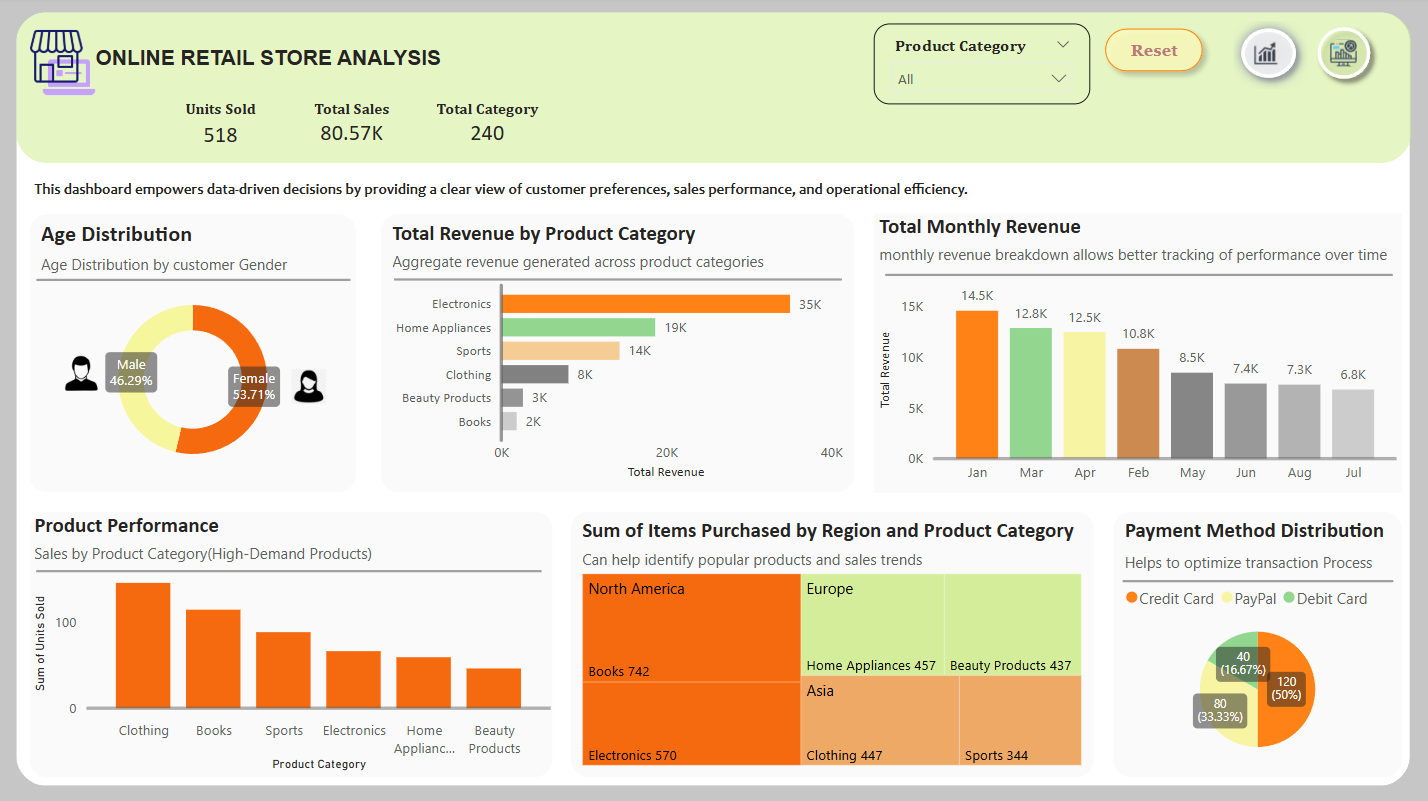

The dashboard page shown, as its layout file describes it:
{"tool":"powerbi","page":{"name":"Page 1","canvas":[1280,720],"ordinal":0},"visuals":[{"type":"shape","box":[19.2,14.4,1241.6,689.1],"z":0},{"type":"shape","box":[18.8,14.4,1242.2,134.2],"z":1000},{"type":"textbox","box":[21.7,39.8,515.2,37.4],"z":2000},{"type":"donutChart","title":"Age Distribution","fields":{"Y":["Sum(Customer Demographic data.Age)"],"Category":["Customer Demographic data.Gender"]},"box":[30.2,194.2,292,248.5],"z":3000},{"type":"columnChart","title":"Product Performance","fields":{"Y":["Sum(Sales Transaction data.Units Sold)"],"Category":["Sales Transaction data.Product Category"]},"box":[30.2,458.4,466.9,237.7],"z":4000},{"type":"treemap","fields":{"Group":["Sales Transaction data.Region","Customer Demographic data.City"],"Details":["Sales Transaction data.Product Category"],"Values":["Sum(Customer Demographic data.Items Purchased)"]},"box":[511.5,458.4,466.9,237.7],"z":5000},{"type":"barChart","title":"Total Revenue by Product Category","fields":{"Category":["Sales Transaction data.Product Category"],"Y":["Sum(Sales Transaction data.Total Revenue)"]},"box":[342.6,194.2,423.5,248.5],"z":6000},{"type":"pieChart","title":"Payment Method Distribution","fields":{"Category":["Sales Transaction data.Payment Method"],"Y":["CountNonNull(Sales Transaction data.Payment Method)"]},"box":[995.3,458.4,258.2,237.7],"z":7000},{"type":"columnChart","title":"Total Monthly Revenue","fields":{"Category":["Sales Transaction data.month name"],"Y":["Sum(Sales Transaction data.Total Revenue)"]},"box":[783,194.2,470.5,248.5],"z":8000},{"type":"slicer","title":"Product Category","fields":{"Values":["Sales Transaction data.Product Category"]},"box":[782.6,24,193,71.9],"z":9000},{"type":"image","box":[21.7,24.1,76,70],"z":10000},{"type":"card","title":"Total Category","fields":{"Values":["Sales Transaction data.Total Customer"]},"box":[381.2,92.9,115.8,44.6],"z":11000},{"type":"card","title":"Total Sales","fields":{"Values":["Sales Transaction data.Total Sales"]},"box":[259.4,92.9,117,44.6],"z":12000},{"type":"card","title":"Units Sold","fields":{"Values":["Sum(Sales Transaction data.Units Sold)"]},"box":[142.4,92.9,117,47.1],"z":13000},{"type":"actionButton","box":[1100.3,19.3,68.8,63.9],"z":14000},{"type":"actionButton","box":[1169,19.3,65.1,63.9],"z":15000},{"type":"image","box":[55.5,311.3,42.2,48.3],"z":16000},{"type":"image","box":[258.2,326.9,42.2,41],"z":17000},{"type":"shape","box":[36.2,243.7,279.9,18.1],"z":18000},{"type":"shape","box":[1003.8,511.5,241.3,18.1],"z":19000},{"type":"shape","box":[36.2,503.1,450,18.1],"z":20000},{"type":"shape","box":[792.6,238.9,452.4,18.1],"z":21000},{"type":"shape","box":[354.7,248.5,399.3,8.4],"z":22000},{"type":"textbox","box":[30.2,156.8,877.1,27.7],"z":23000},{"type":"actionButton","box":[979.2,20.4,105.5,56.3],"z":24000}]}

Visuals, with their boxes in screenshot pixels (x1, y1, x2, y2), scaled from the page's 1280x720 canvas onto the 1428x801 screenshot:
shape: 21,16,1407,783
shape: 21,16,1407,165
textbox: 24,44,599,86
"Age Distribution" donutChart: 34,216,359,493
"Product Performance" columnChart: 34,510,555,774
treemap - Sales Transaction data.Region x Customer Demographic data.City: 571,510,1092,774
"Total Revenue by Product Category" barChart: 382,216,855,493
"Payment Method Distribution" pieChart: 1110,510,1398,774
"Total Monthly Revenue" columnChart: 874,216,1398,493
"Product Category" slicer: 873,27,1088,107
image: 24,27,109,105
"Total Category" card: 425,103,554,153
"Total Sales" card: 289,103,420,153
"Units Sold" card: 159,103,289,156
actionButton: 1228,21,1304,93
actionButton: 1304,21,1377,93
image: 62,346,109,400
image: 288,364,335,409
shape: 40,271,353,291
shape: 1120,569,1389,589
shape: 40,560,542,580
shape: 884,266,1389,286
shape: 396,276,841,286
textbox: 34,174,1012,205
actionButton: 1092,23,1210,85
